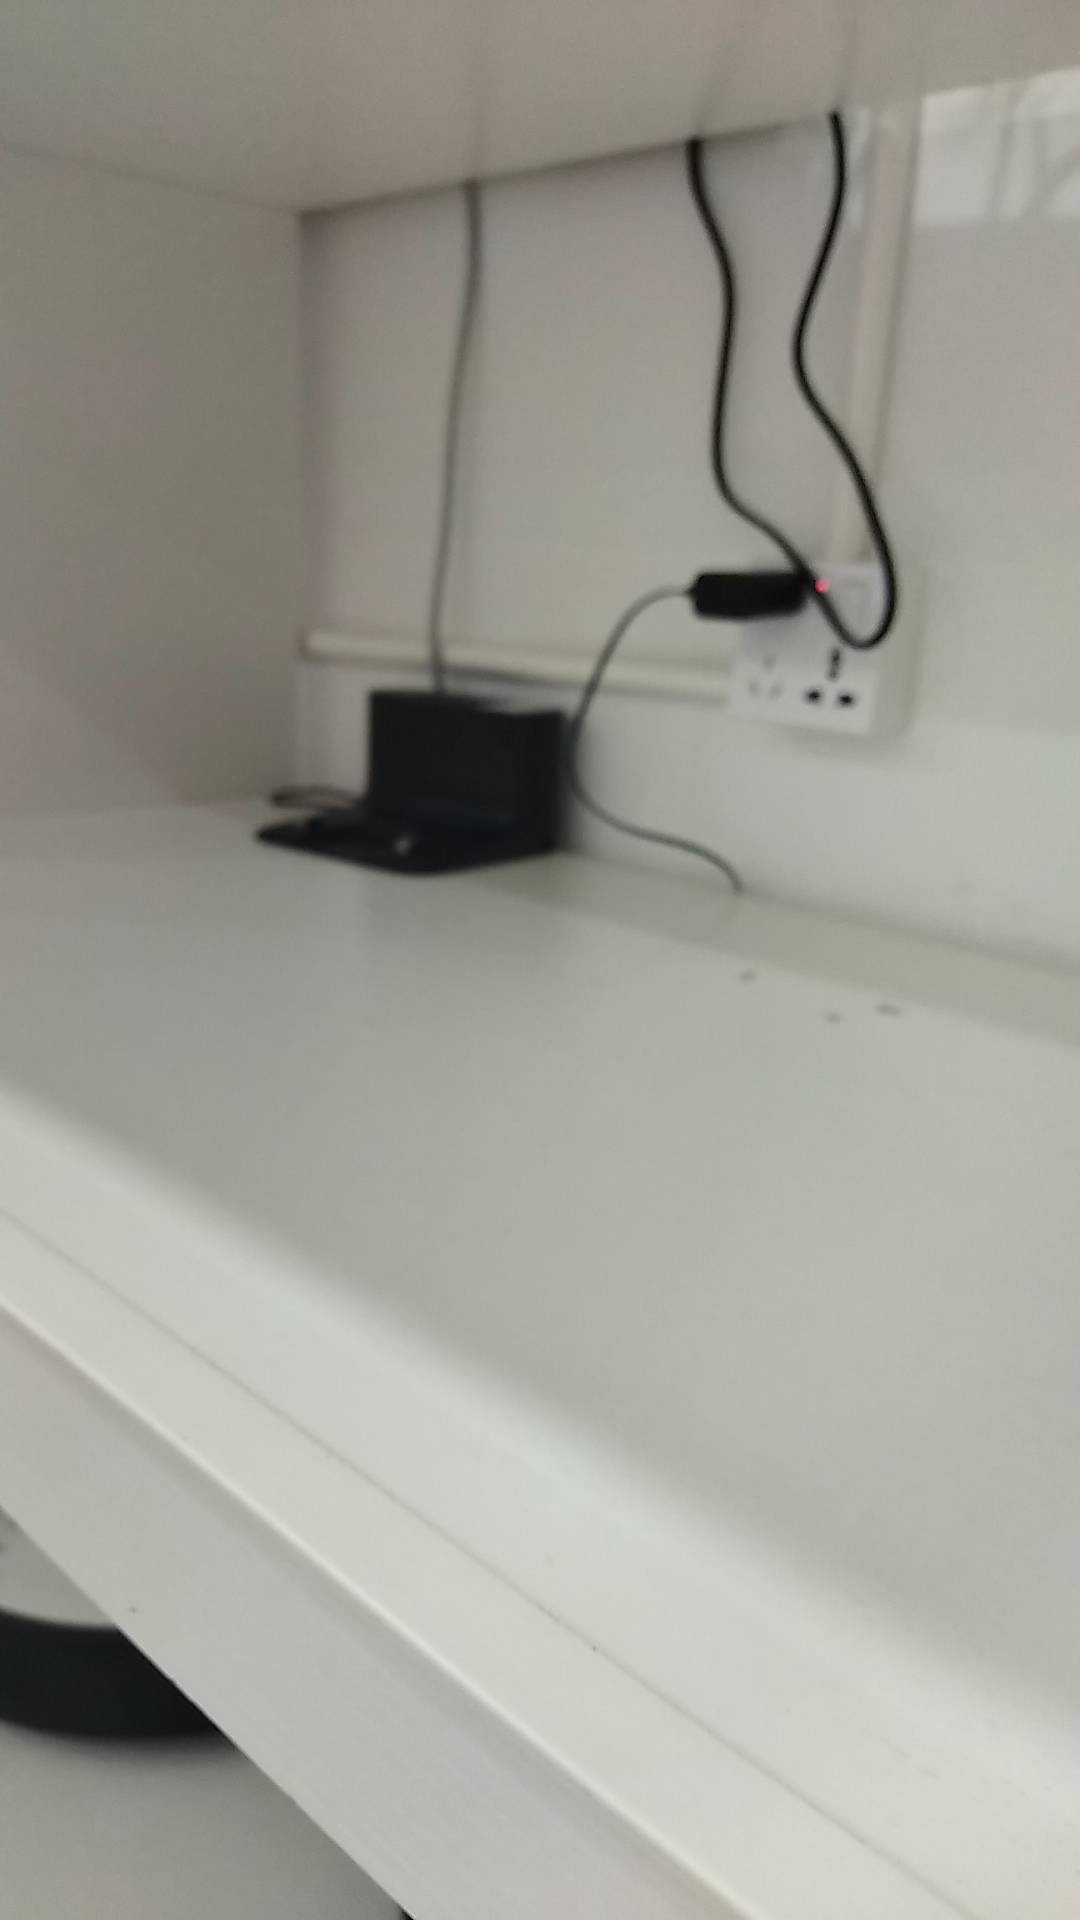recharge seat: (252, 686, 575, 877)
